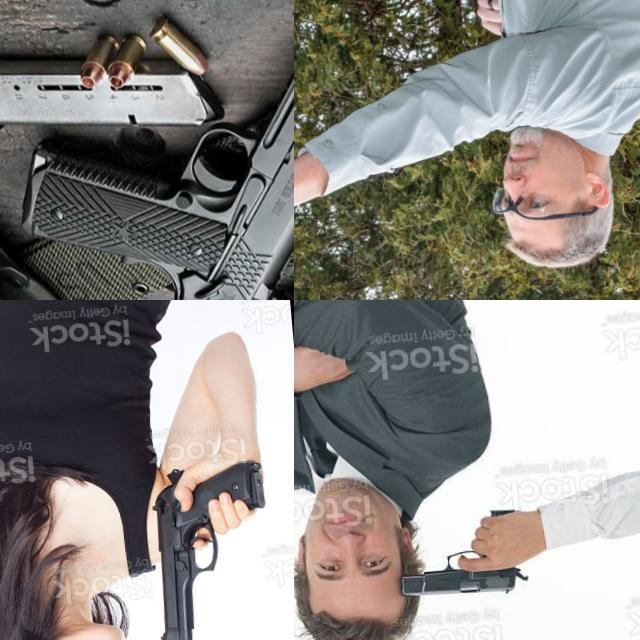handgun: (0, 0, 294, 300), (141, 454, 282, 640), (388, 504, 530, 607), (294, 184, 372, 300)
